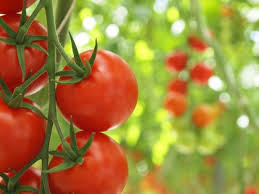tomato: (55, 49, 138, 135), (47, 134, 131, 192), (1, 15, 52, 98), (1, 96, 45, 173), (3, 169, 44, 190)
